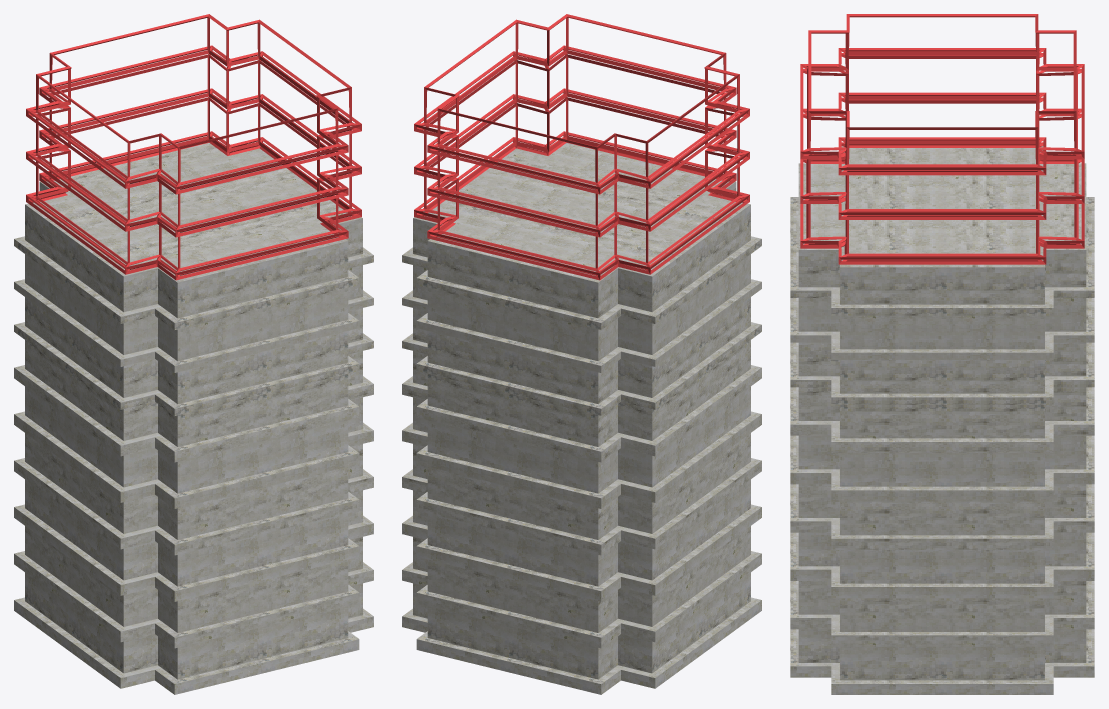
File: Mantion.gltf
The picture shows the model from 3 angles, left to right: view 1: azimuth 30°, elevation 25°; view 2: azimuth 150°, elevation 25°; view 3: azimuth 270°, elevation 25°; orthographic projection. The views are drawn at different scales.
Visible parts, largest first — view 1: building_003, building_004; view 2: building_003, building_004; view 3: building_003, building_004.
Part boxes in pixels (x1,y1,x2,y2): building_003: [14, 143, 373, 694]; building_004: [26, 14, 361, 280]; building_003: [402, 143, 761, 694]; building_004: [414, 14, 749, 280]; building_003: [790, 146, 1094, 694]; building_004: [800, 14, 1084, 264].
Bounding box in the file's own units: 74.08 × 151 × 74.08.
Materials: 2 (1 with a texture image).
